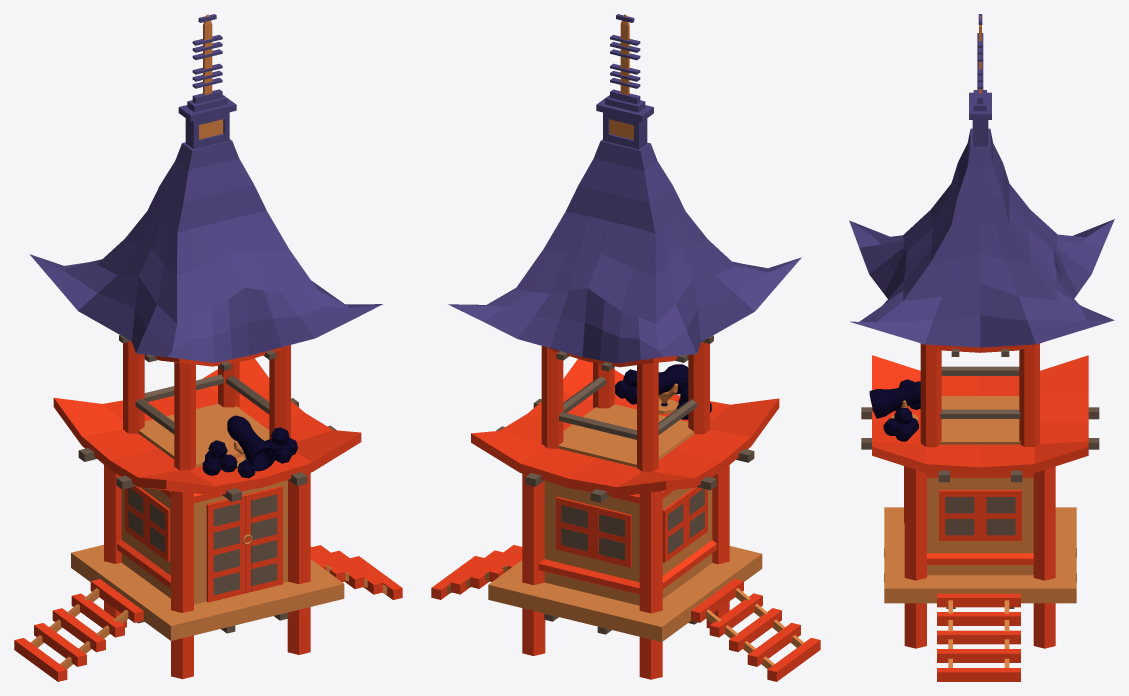
The model's file is Tour_du_Roi.fbx.
3 views of the same model, side by side, from view 1: azimuth 30°, elevation 25°; view 2: azimuth 150°, elevation 25°; view 3: azimuth 270°, elevation 25° (orthographic). The views are drawn at different scales.
Visible parts, largest first — view 1: Barrières.002; view 2: Barrières.002; view 3: Barrières.002.
Boxes of the visible parts, <box> form: Barrières.002: <box>14,14,402,681</box>; Barrières.002: <box>431,14,820,681</box>; Barrières.002: <box>849,14,1114,681</box>.
Bounding box in the file's own units: 1767 × 3059 × 1228.
